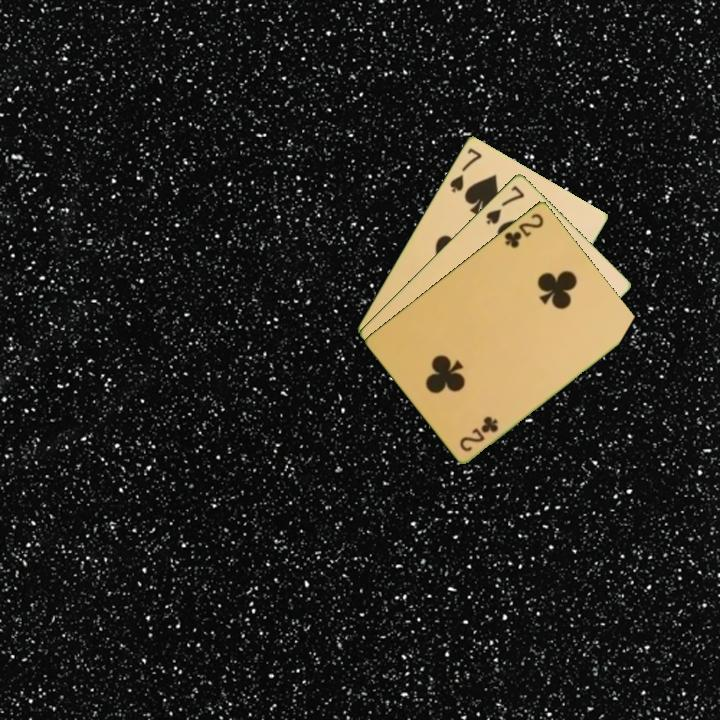2c: (501, 209, 547, 251), (456, 412, 501, 454)
7s: (482, 181, 527, 227), (446, 144, 485, 195)
